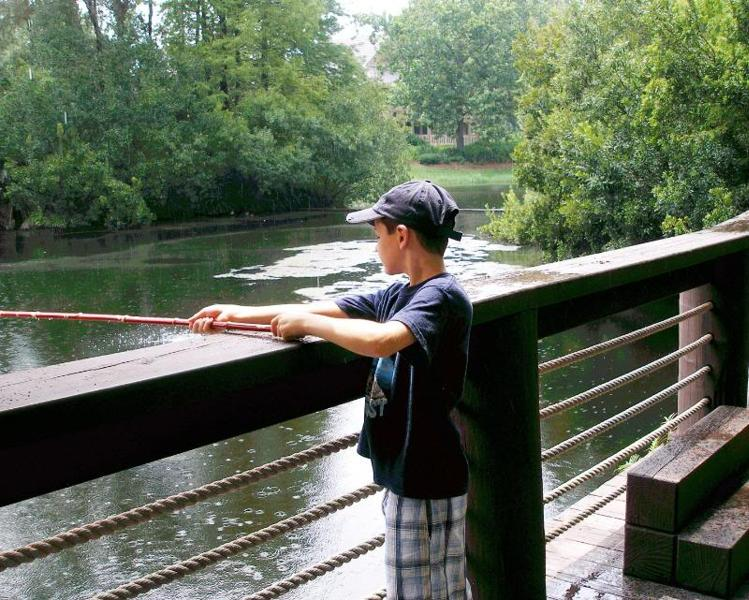person: (186, 181, 473, 600)
